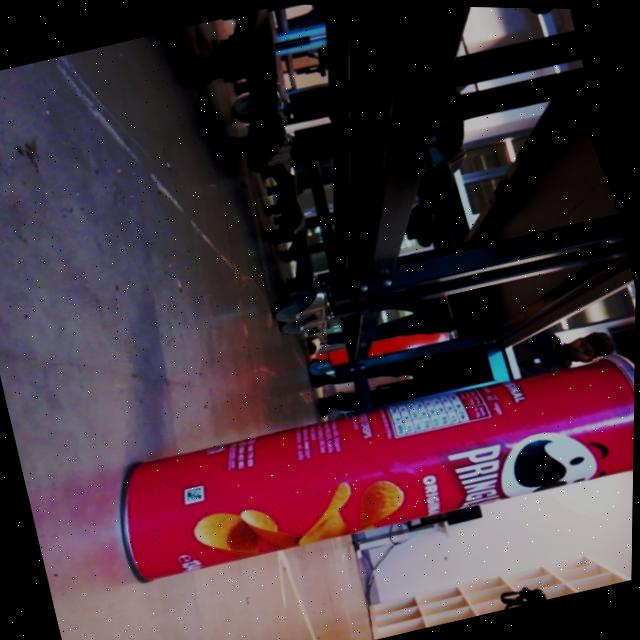redpringles: (71, 319, 636, 624)
